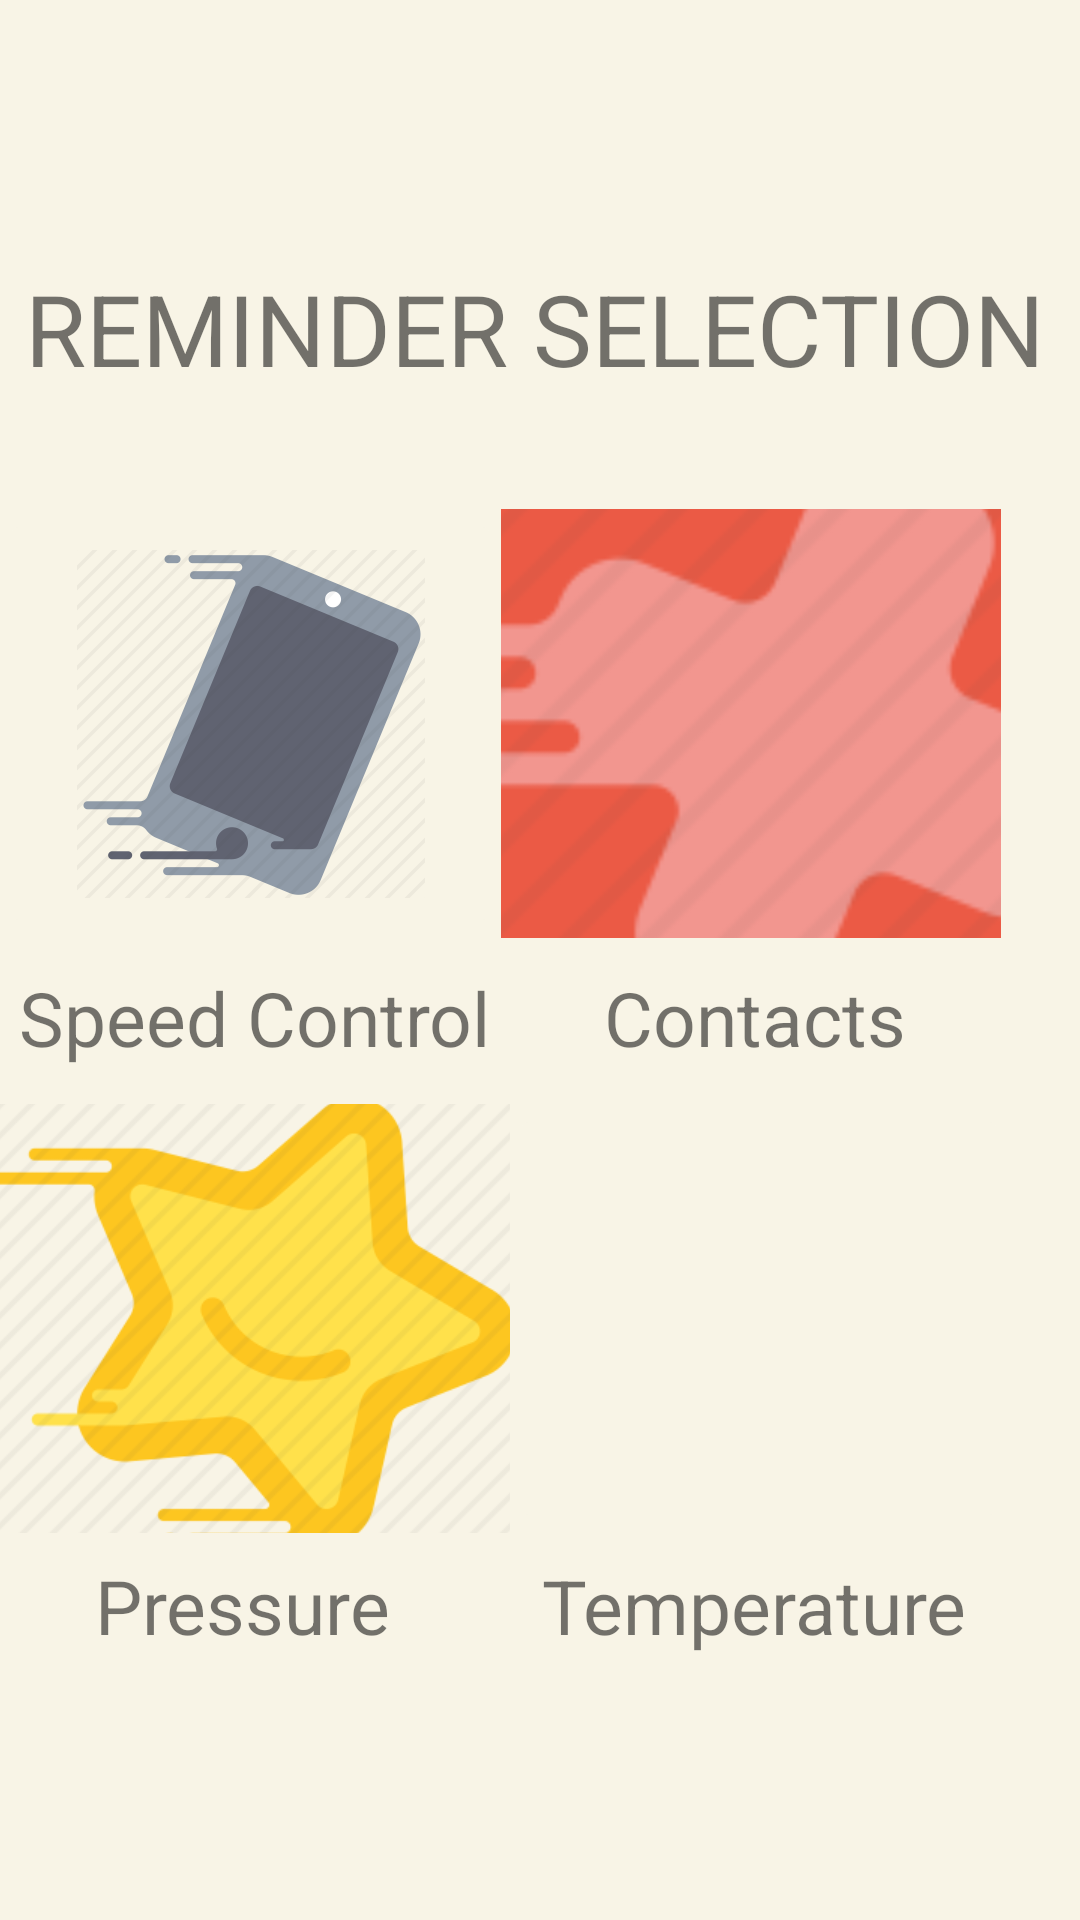

Where icons sit on this 1080*1920 app screen, as (x1, y1, x2, y2):
accelerometer: (83, 555, 421, 895)
